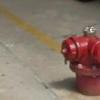Hydrant: (54, 21, 100, 100)
